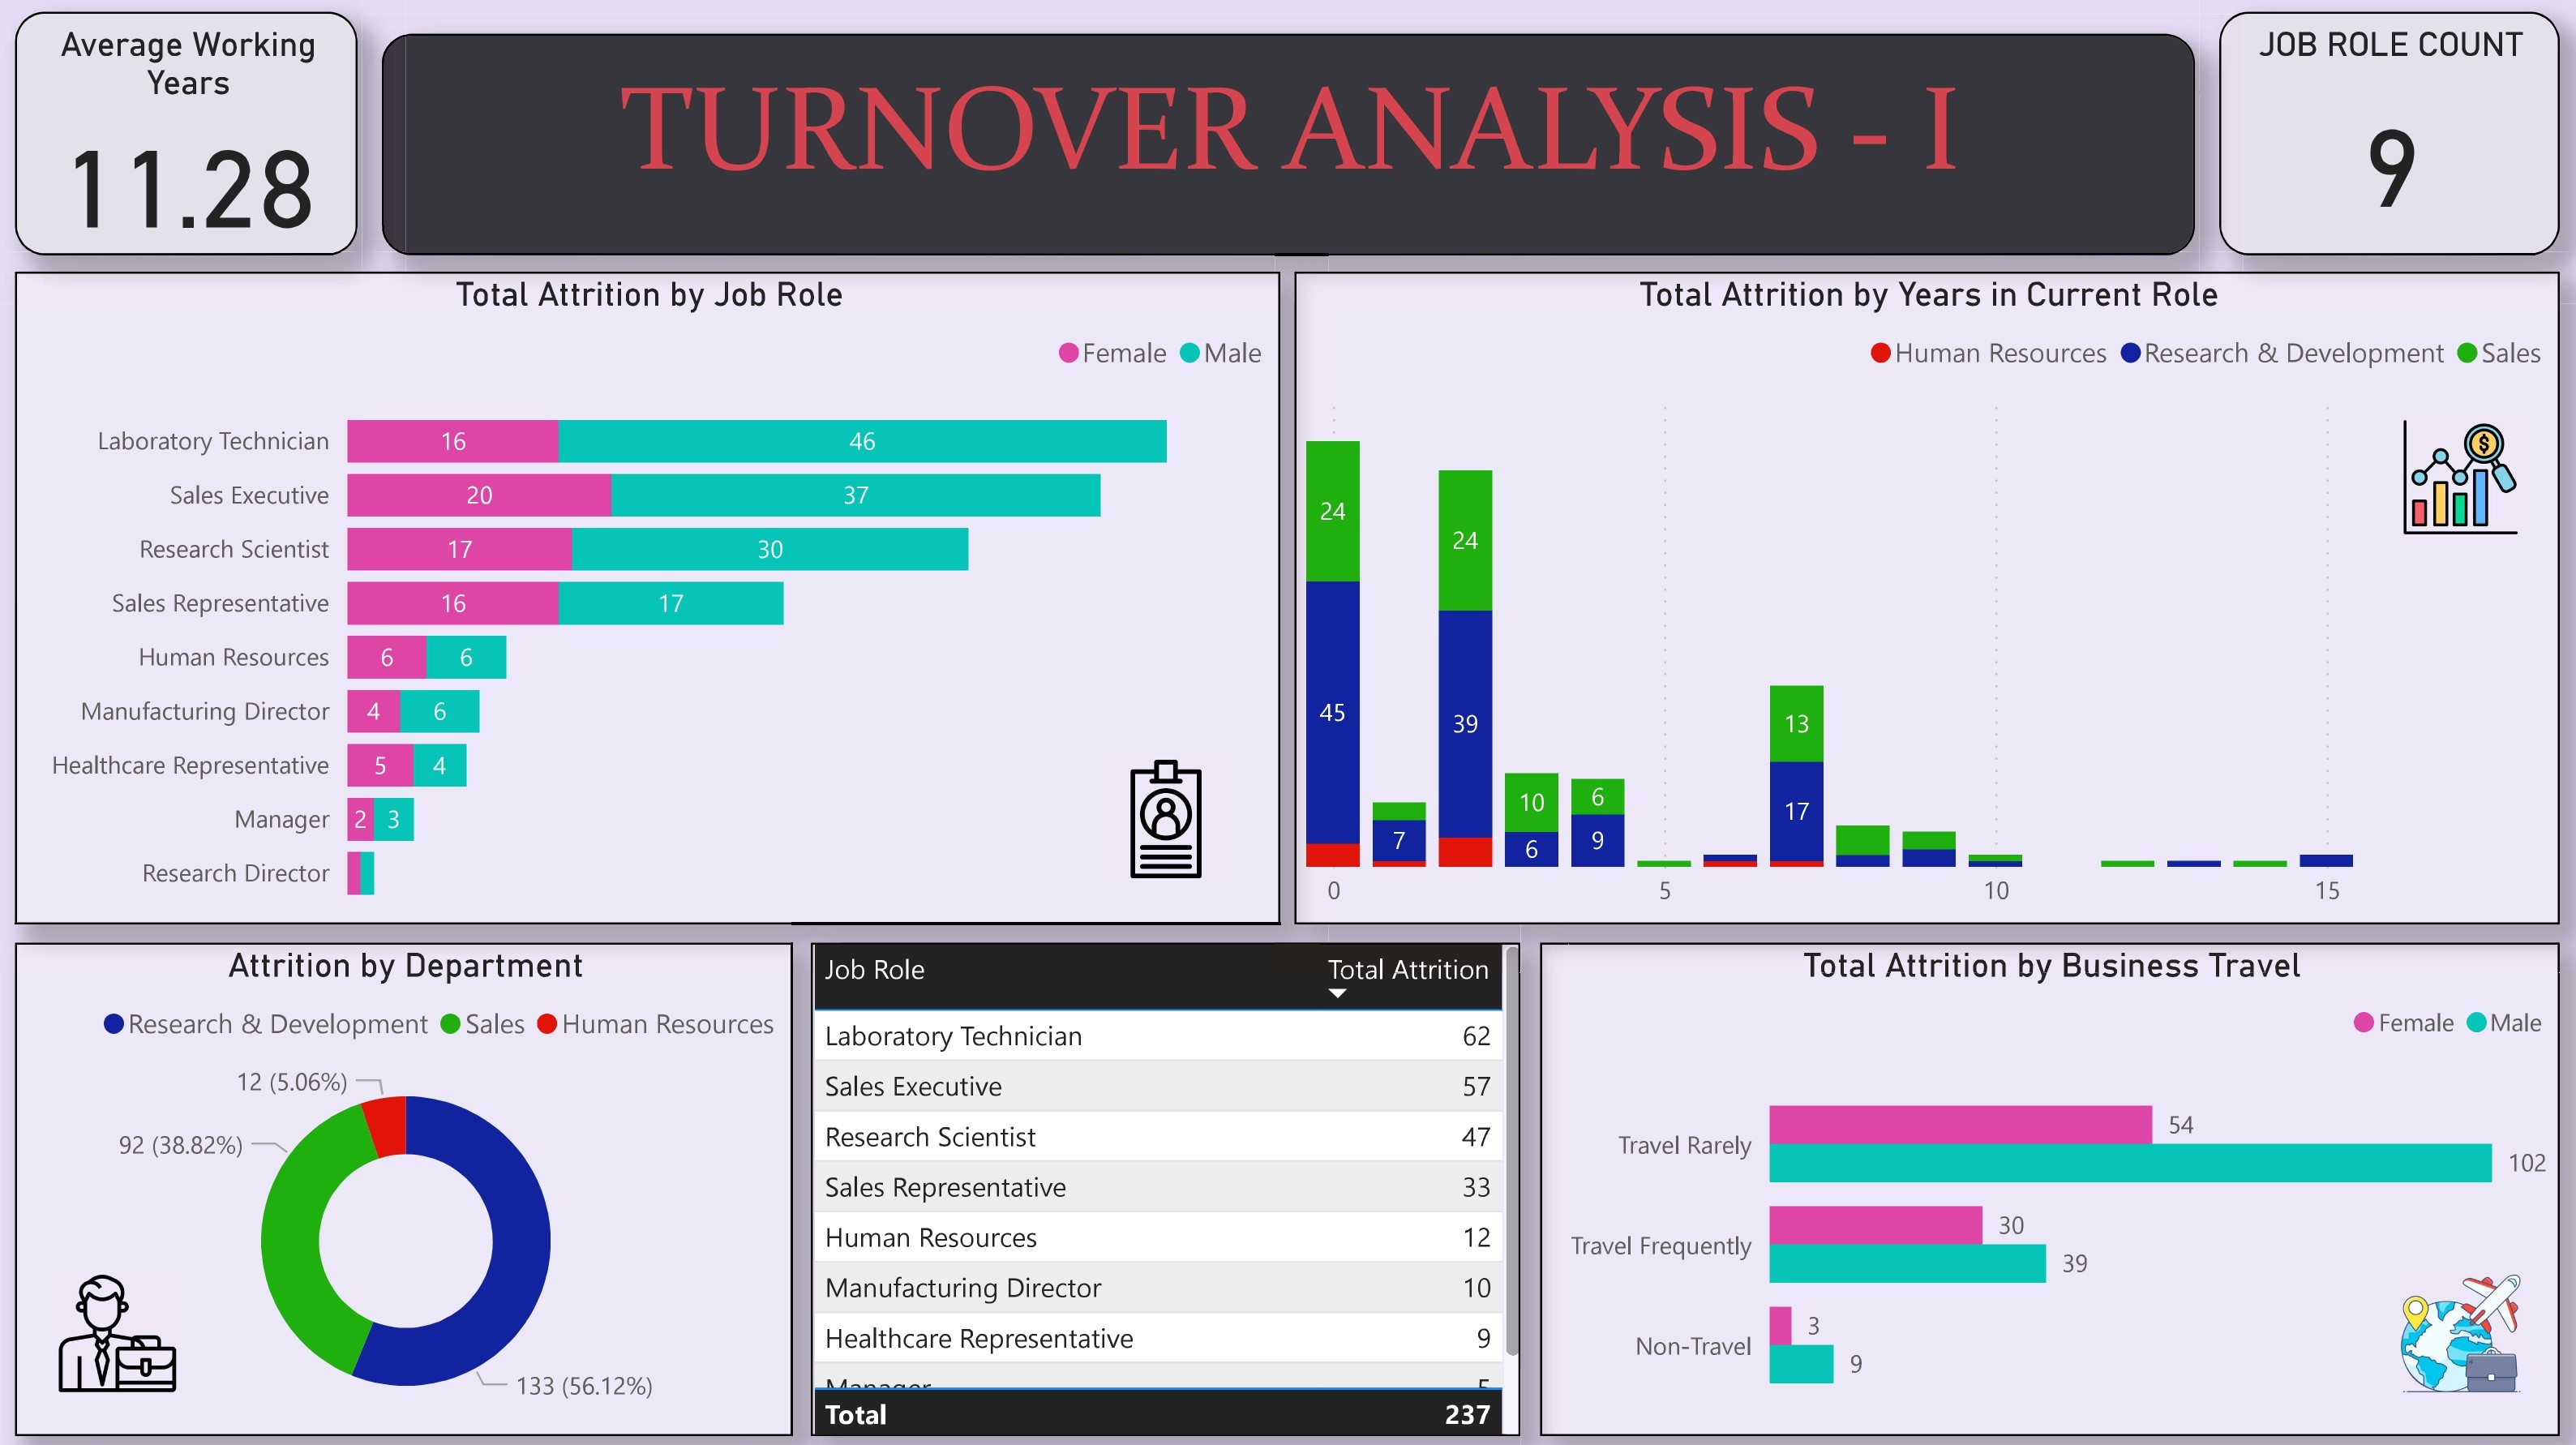

The dashboard page shown, as its layout file describes it:
{"tool":"powerbi","page":{"name":"Turnover Analysis","canvas":[1280,720],"ordinal":2},"visuals":[{"type":"textbox","box":[190,18.5,900.3,110.1],"z":0},{"type":"card","title":"Average Working Years","fields":{"Values":["Avg(HR-Employee-Attrition.TotalWorkingYears)"]},"box":[8.1,8.1,170.3,120.5],"z":1000},{"type":"card","title":"JOB ROLE COUNT","fields":{"Values":["Count(HR-Employee-Attrition.JobRole)"]},"box":[1102,8.1,169.2,120.5],"z":2000},{"type":"barChart","title":"Total Attrition by Job Role","fields":{"Y":["Sum(HR-Employee-Attrition.Attrition in Number)"],"Category":["HR-Employee-Attrition.JobRole"],"Series":["HR-Employee-Attrition.Gender"]},"box":[8.1,136.7,628,324.4],"z":3000},{"type":"donutChart","title":"Attrition by Department","fields":{"Y":["Sum(HR-Employee-Attrition.Attrition in Number)"],"Category":["HR-Employee-Attrition.Department"]},"box":[8.1,470.4,385.9,244.5],"z":4000},{"type":"clusteredBarChart","title":"Total Attrition by Business Travel","fields":{"Y":["Sum(HR-Employee-Attrition.Attrition in Number)"],"Category":["HR-Employee-Attrition.BusinessTravel"],"Series":["HR-Employee-Attrition.Gender"]},"box":[764.8,470.4,506.4,244.5],"z":5000},{"type":"tableEx","fields":{"Values":["HR-Employee-Attrition.JobRole","Sum(HR-Employee-Attrition.Attrition in Number)"]},"box":[403.2,470.4,352.3,244.5],"z":6000},{"type":"columnChart","title":"Total Attrition by Years in Current Role","fields":{"Y":["Sum(HR-Employee-Attrition.Attrition in Number)"],"Category":["HR-Employee-Attrition.YearsInCurrentRole"],"Series":["HR-Employee-Attrition.Department"]},"box":[643.1,136.7,628,324.4],"z":7000},{"type":"image","box":[23.1,628.6,70.4,70.4],"z":7001},{"type":"image","box":[1186.7,628.6,70.4,70.4],"z":7002},{"type":"image","box":[544.5,373.1,70.4,70.4],"z":7003},{"type":"image","box":[1186.7,203.9,70.4,70.4],"z":7004}]}

Visuals, with their boxes in screenshot pixels (x1, y1, x2, y2), scaled from the page's 1280x720 canvas onto the 2576x1445 screenshot:
textbox: (383, 37, 2194, 258)
"Average Working Years" card: (16, 16, 359, 258)
"JOB ROLE COUNT" card: (2218, 16, 2558, 258)
"Total Attrition by Job Role" barChart: (16, 274, 1280, 925)
"Attrition by Department" donutChart: (16, 944, 793, 1434)
"Total Attrition by Business Travel" clusteredBarChart: (1539, 944, 2558, 1434)
tableEx - HR-Employee-Attrition.JobRole x Sum(HR-Employee-Attrition.Attrition in Number): (812, 944, 1520, 1434)
"Total Attrition by Years in Current Role" columnChart: (1294, 274, 2558, 925)
image: (46, 1262, 188, 1403)
image: (2388, 1262, 2530, 1403)
image: (1095, 748, 1237, 890)
image: (2388, 409, 2530, 551)
